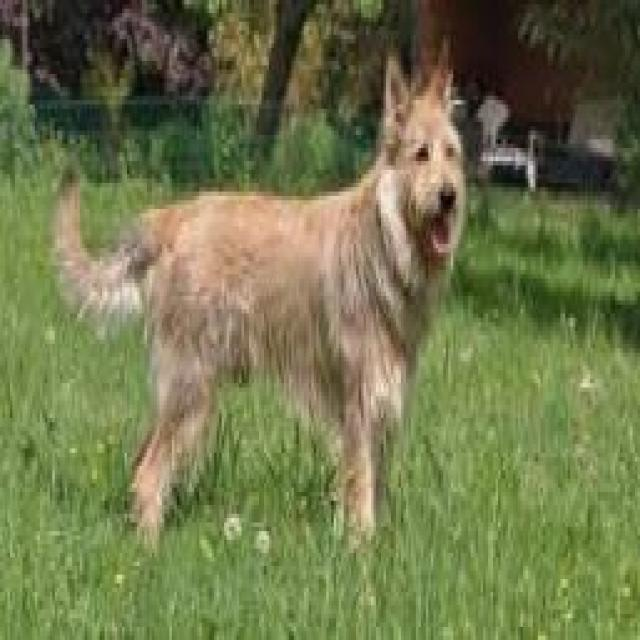Perro: (52, 31, 473, 544)
